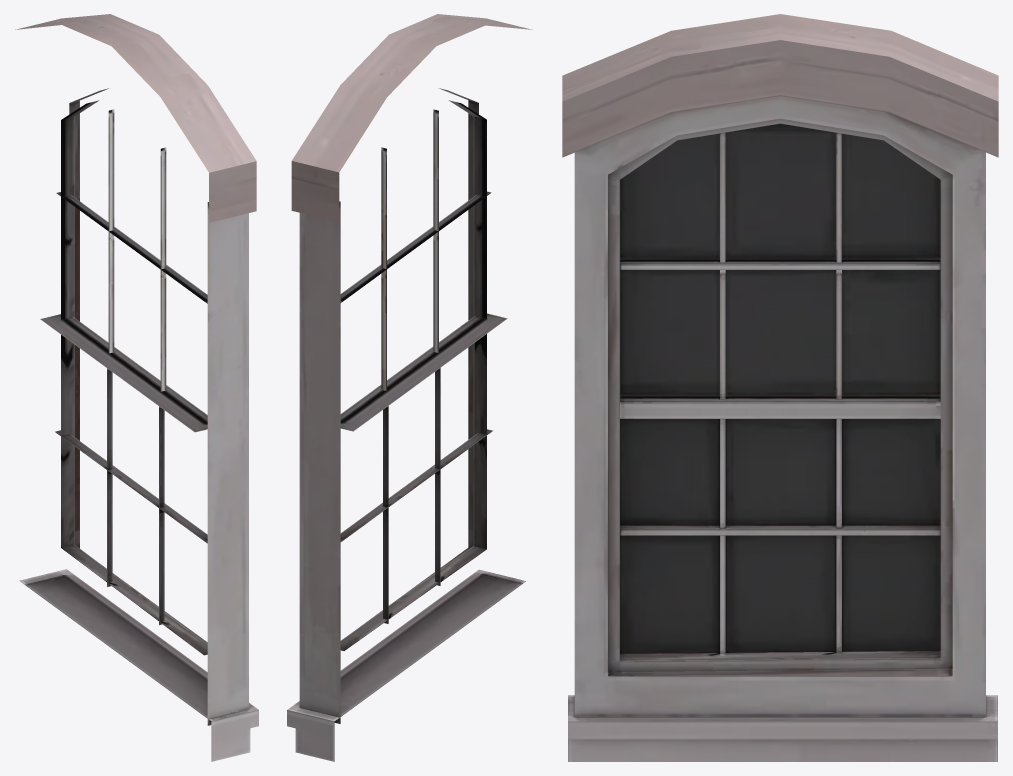
The picture shows the model from 3 angles, left to right: view 1: azimuth 30°, elevation 25°; view 2: azimuth 150°, elevation 25°; view 3: azimuth 270°, elevation 25°; orthographic projection. The views are drawn at different scales.
Visible parts, largest first — view 1: body0_model0_lod0_mesh0; view 2: body0_model0_lod0_mesh0; view 3: body0_model0_lod0_mesh0.
Boxes of the visible parts, <box> form: body0_model0_lod0_mesh0: <box>15,14,258,761</box>; body0_model0_lod0_mesh0: <box>287,14,532,761</box>; body0_model0_lod0_mesh0: <box>562,14,998,761</box>.
Bounding box in the file's own units: 10.96 × 129 × 70.55.
Materials: 1 (1 with a texture image).
